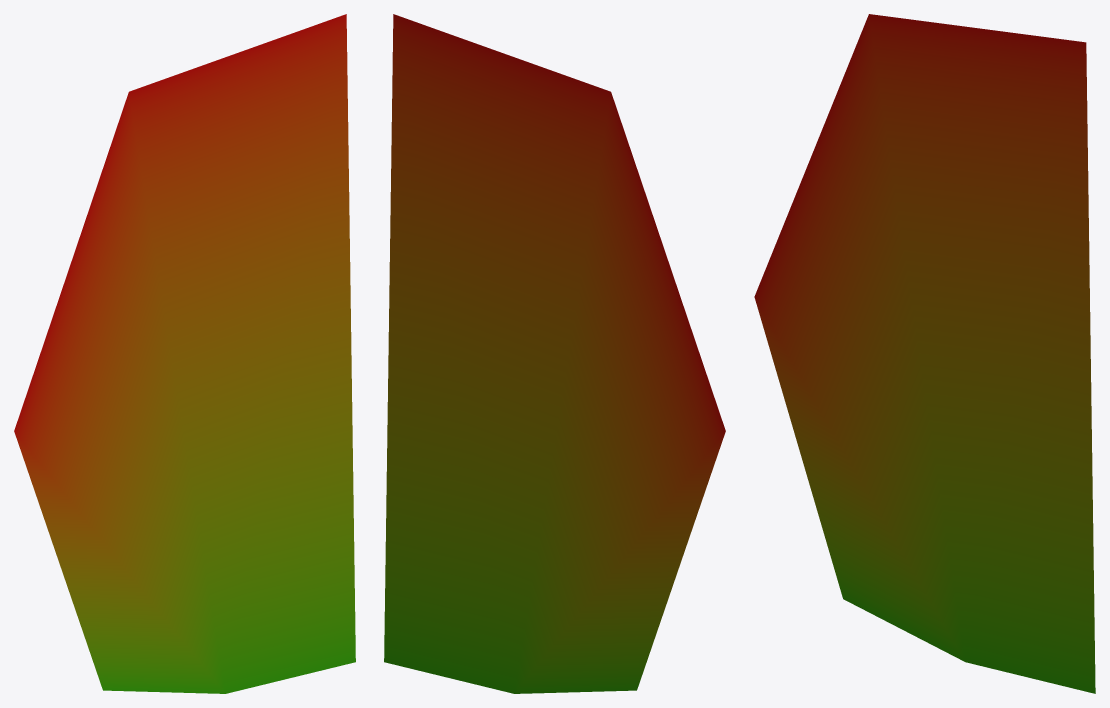
The model's file is Spotted Laurel_LOD3_Var1_sfDik.fbx.
The picture shows the model from 3 angles, left to right: view 1: azimuth 30°, elevation 25°; view 2: azimuth 150°, elevation 25°; view 3: azimuth 330°, elevation 25°; orthographic projection.
Parts seen in each view (by area): view 1: _95f0_Var1_LOD3; view 2: _95f0_Var1_LOD3; view 3: _95f0_Var1_LOD3.
Part boxes in pixels (box(x1,y1,x2,y2)): _95f0_Var1_LOD3: box(14, 14, 355, 693); _95f0_Var1_LOD3: box(384, 14, 725, 693); _95f0_Var1_LOD3: box(754, 14, 1095, 693).
Size of the model in its own units: 54.25 by 98.66 by 1.14e-05.
